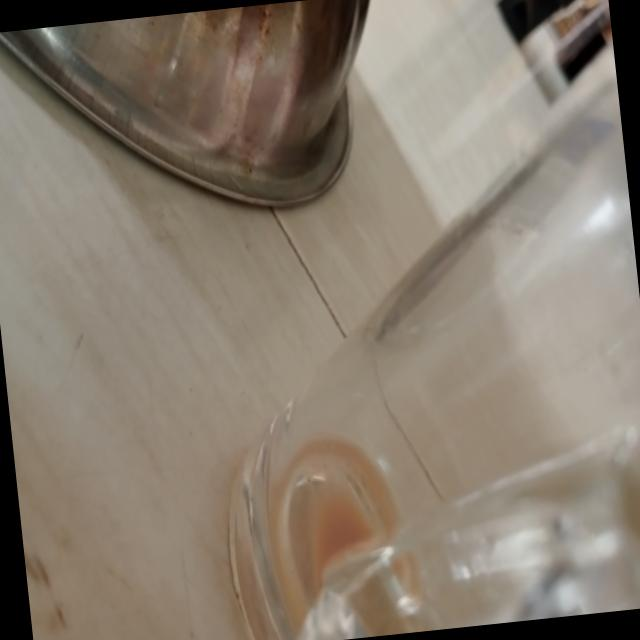glass-VX4N: (178, 44, 640, 640)
